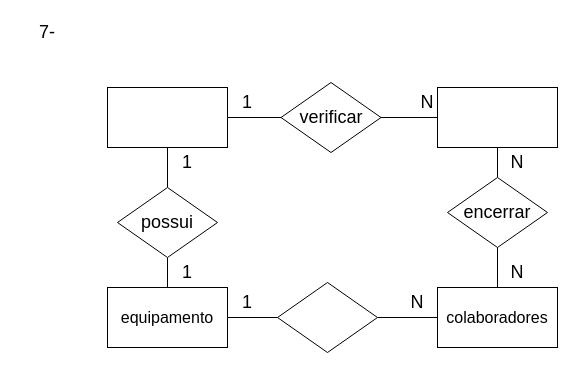
This 575x370 diagram has some shape labels left out. The shapes that lost their labels are listed below. From the top down, each one's centre as x and y in pixels, then its label:
point (167, 117): cliente
point (497, 117): conserto
point (327, 317): repara
